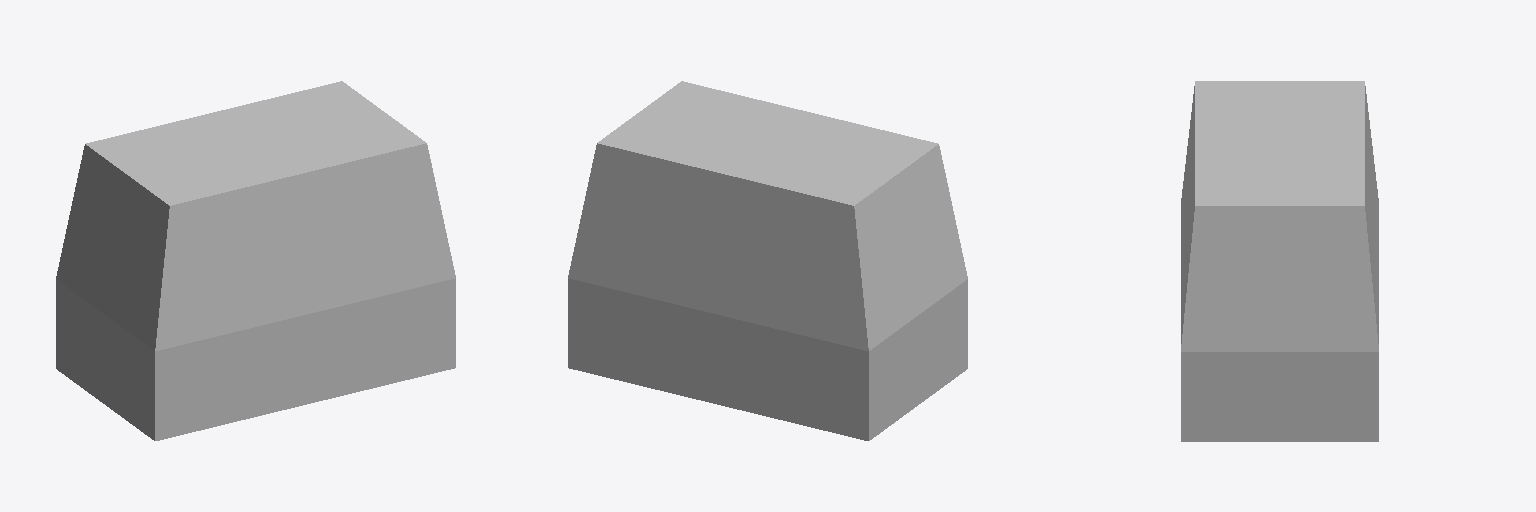
Rendered from Sharpener.obj.
3 renders of one model, left to right at view 1: azimuth 30°, elevation 25°; view 2: azimuth 150°, elevation 25°; view 3: azimuth 270°, elevation 25°, orthographic.
Parts seen in each view (by area): view 1: Cube; view 2: Cube; view 3: Cube.
Boxes of the visible parts, box(x1,y1,x2,y2) form: Cube: box(56, 81, 455, 440); Cube: box(568, 81, 967, 440); Cube: box(1181, 81, 1378, 441).
Size of the model in its own units: 0.35 by 0.25 by 0.2.